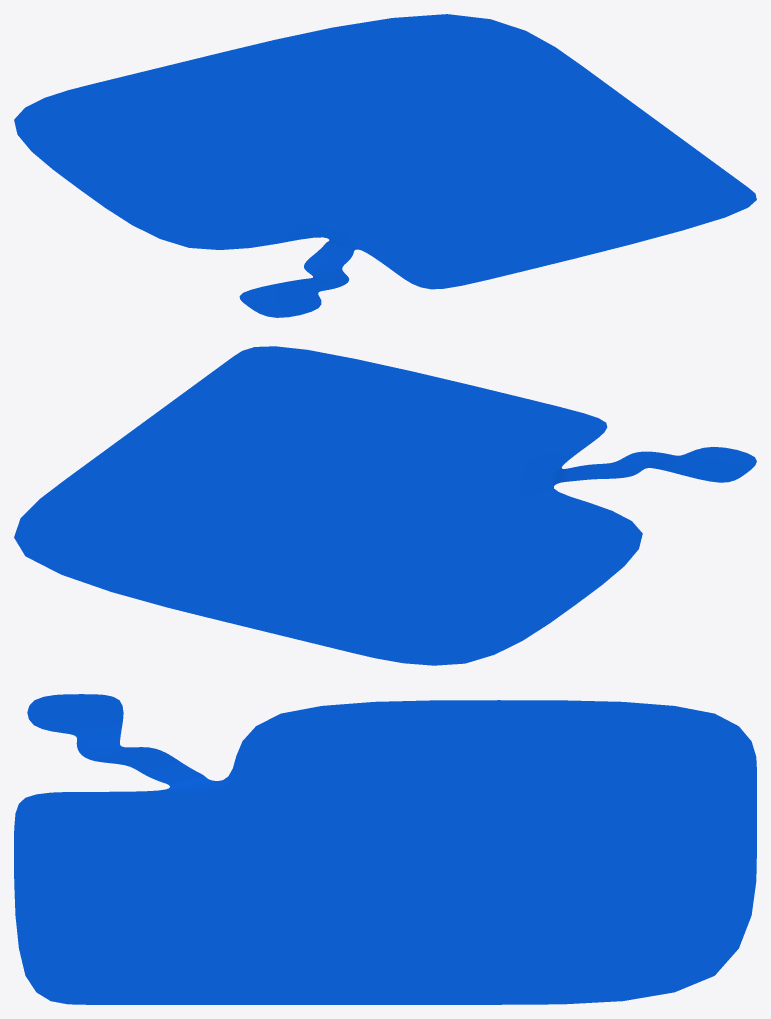
Rendered from Wasserbegrenzung.fbx.
The picture shows the model from 3 angles, top to bottom: view 1: azimuth 30°, elevation 25°; view 2: azimuth 150°, elevation 25°; view 3: azimuth 270°, elevation 25°; orthographic projection. The views are drawn at different scales.
Parts seen in each view (by area): view 1: Wasser; view 2: Wasser; view 3: Wasser.
Boxes of the visible parts, x1,y1,x2,y2 form: Wasser: (14,14,756,317); Wasser: (14,346,756,665); Wasser: (14,694,756,1004).
Size of the model in its own units: 150574 by 1533 by 155176.
